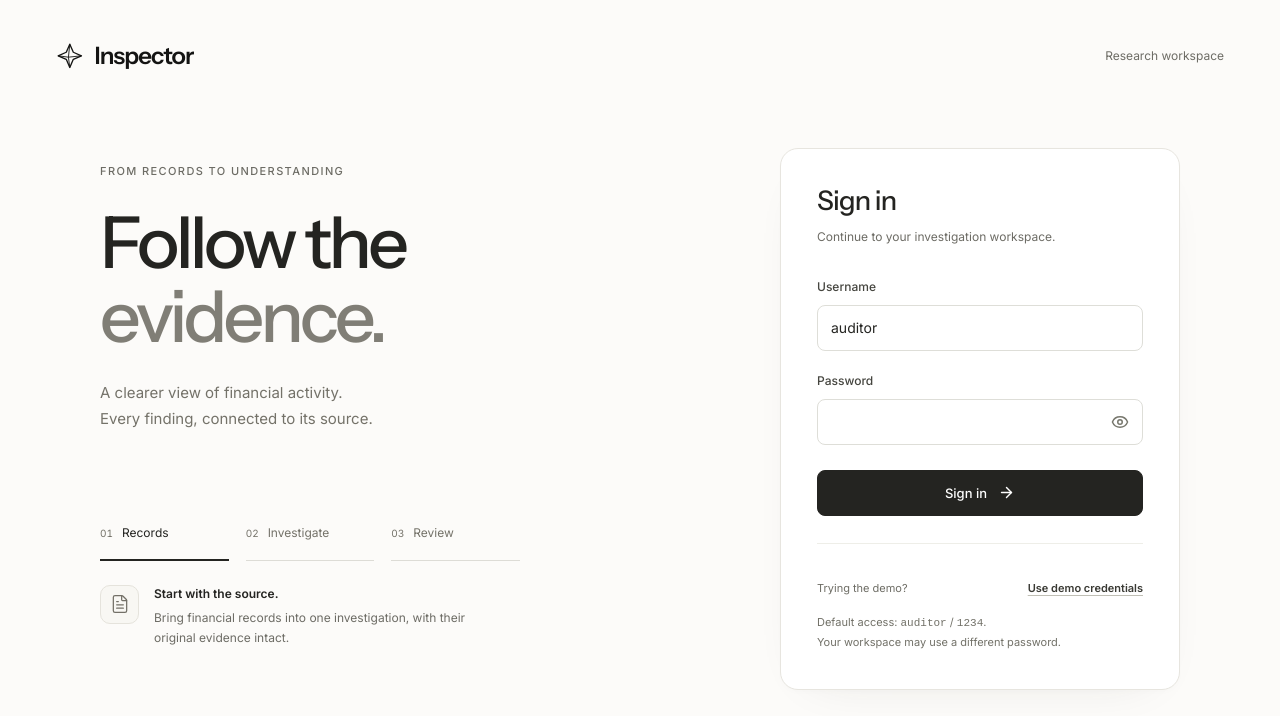
Test: DemoLogin › respects the server rate-limit countdown before permitting another request
The width and height of the screenshot is (1280, 716).
Type "1234" into the password field labelled "Password".
click(980, 422); type("1234")  # box [817,399,1143,445]
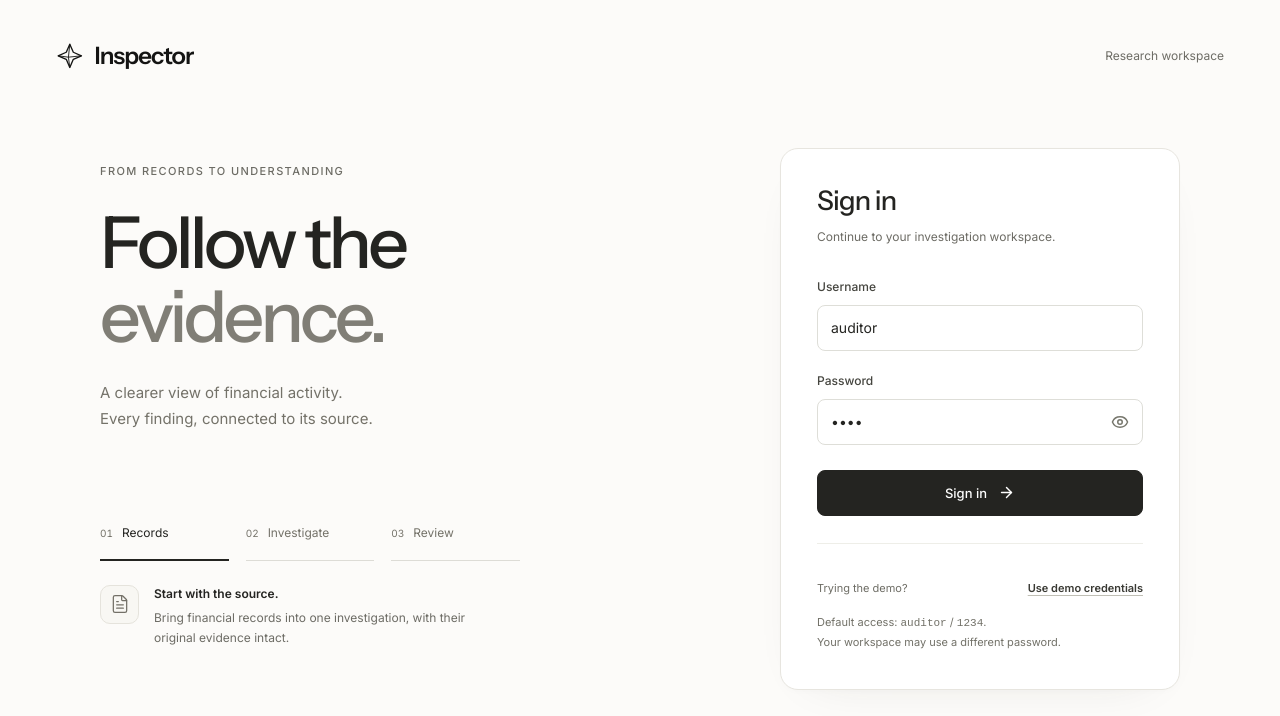
Submit the form "Sign in", box [817,277,1143,516]
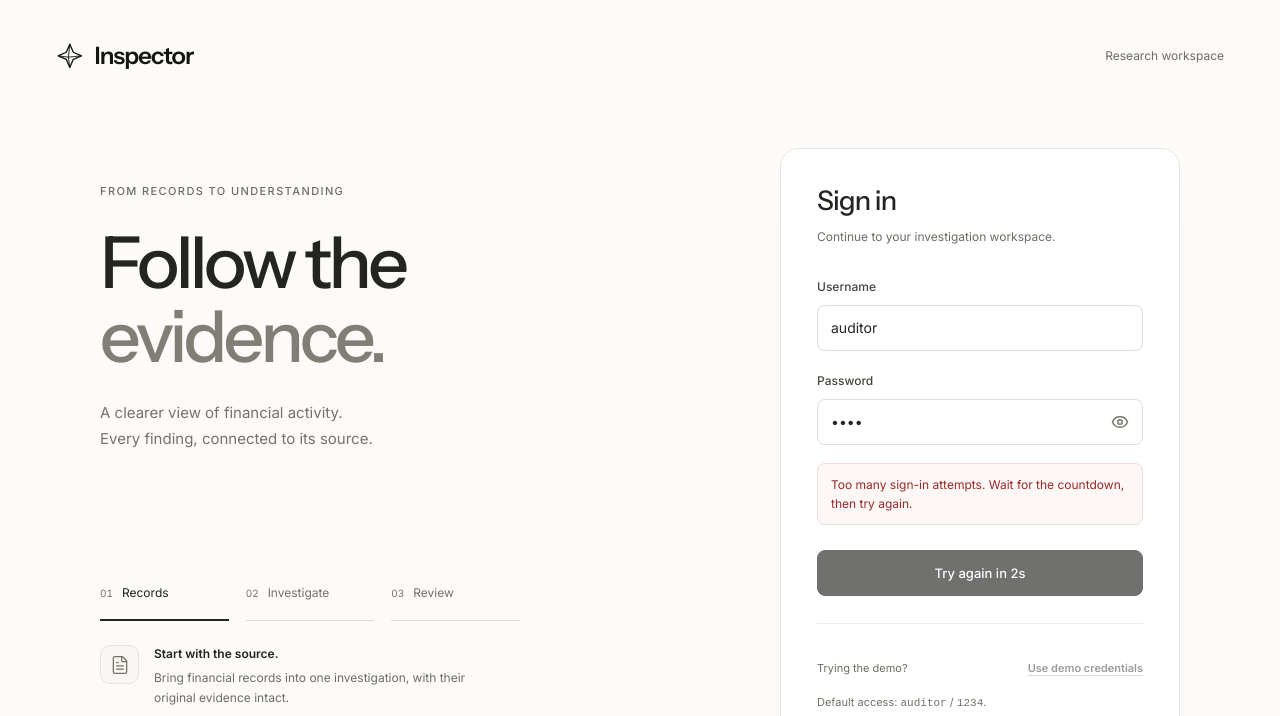
Expected: the button "Try again in 2s" is disabled, [817,550,1143,596]
Submit the form named "Sign in", box [817,277,1143,596]
Wait 2000 ms
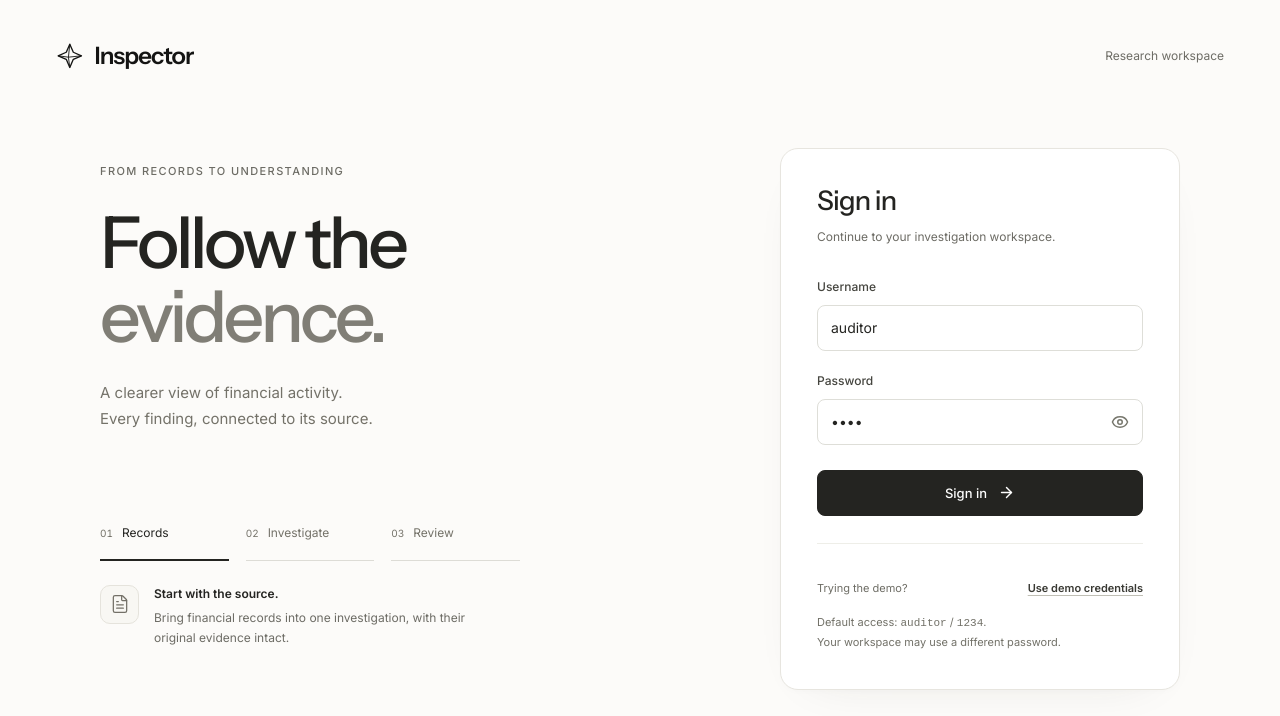
Expected: the button "Sign in" is enabled, [817,470,1143,516]
